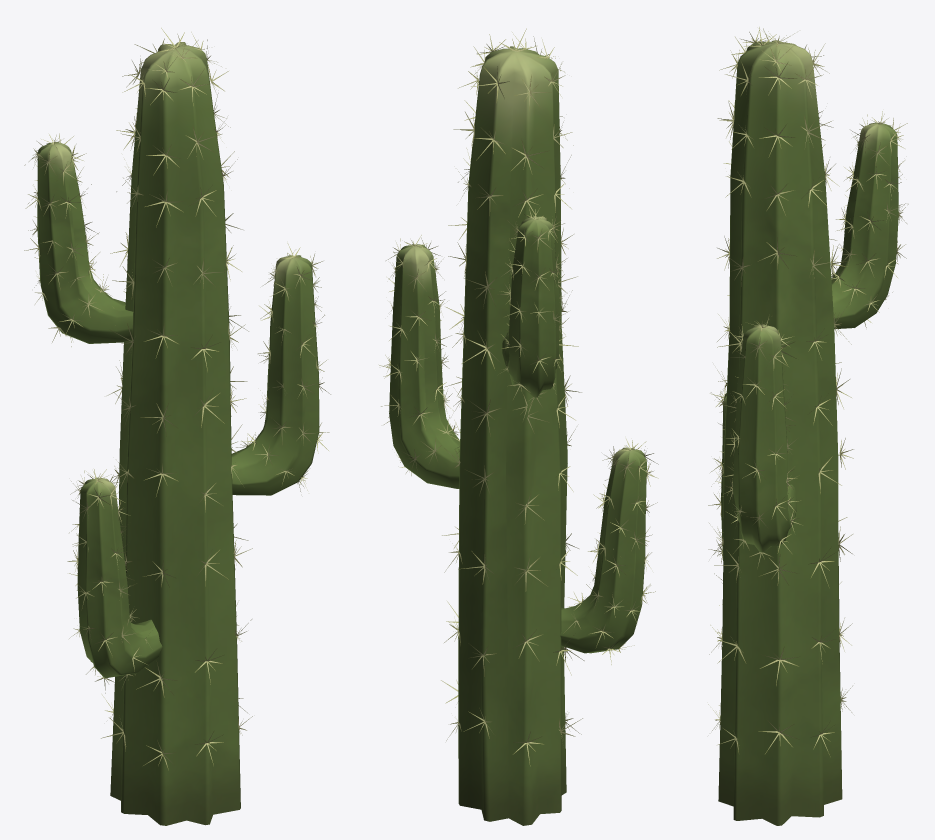
The model's file is D_Plant_003.fbx.
The picture shows the model from 3 angles, left to right: view 1: azimuth 30°, elevation 25°; view 2: azimuth 150°, elevation 25°; view 3: azimuth 270°, elevation 25°; orthographic projection.
Parts seen in each view (by area): view 1: D_Plant_003; view 2: D_Plant_003; view 3: D_Plant_003.
Boxes of the visible parts, bbox=[...] form: D_Plant_003: bbox=[24, 28, 330, 825]; D_Plant_003: bbox=[379, 28, 658, 825]; D_Plant_003: bbox=[708, 27, 908, 825].
Bounding box in the file's own units: 0.2113 × 0.5612 × 0.1453.
1 material, 1 textured.
